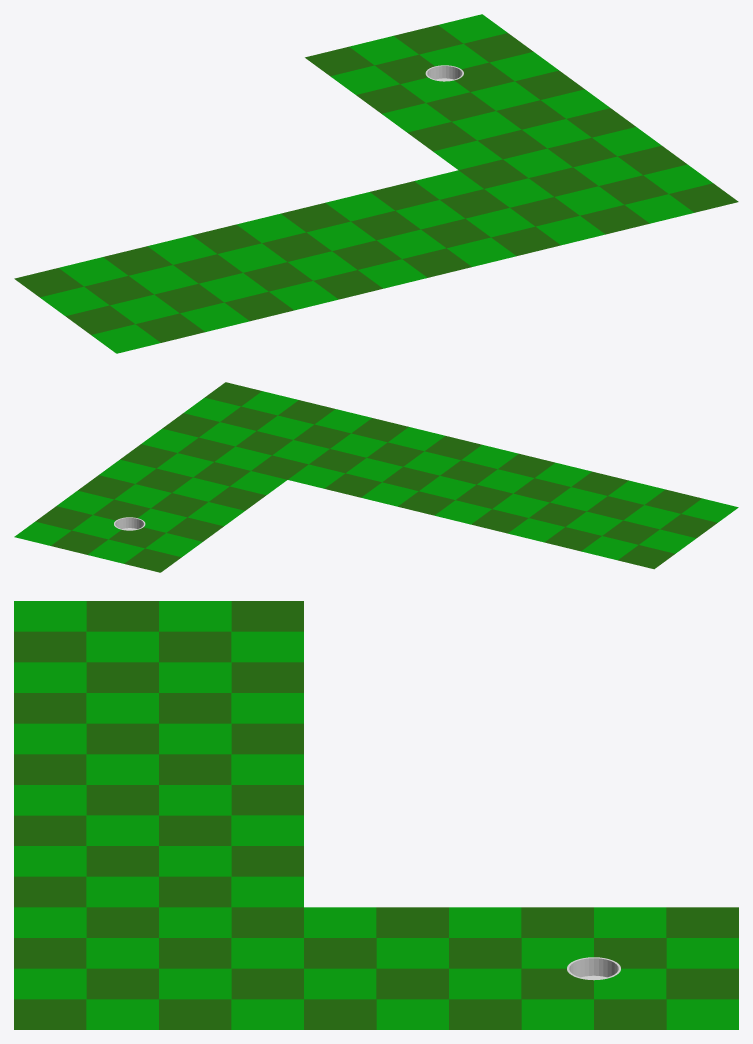
File: finalGreen1.fbx
The picture shows the model from 3 angles, top to bottom: view 1: azimuth 30°, elevation 25°; view 2: azimuth 150°, elevation 25°; view 3: azimuth 270°, elevation 25°; orthographic projection. The views are drawn at different scales.
Parts seen in each view (by area): view 1: Plane; view 2: Plane, Cylinder; view 3: Plane, Cylinder.
Part boxes in pixels (x1,y1,x2,y2): Plane: (14, 14, 738, 353); Plane: (14, 382, 738, 572); Cylinder: (114, 517, 145, 530); Plane: (14, 601, 738, 1029); Cylinder: (567, 957, 620, 980).
Bounding box in the file's own units: 2800 × 150 × 2000.
